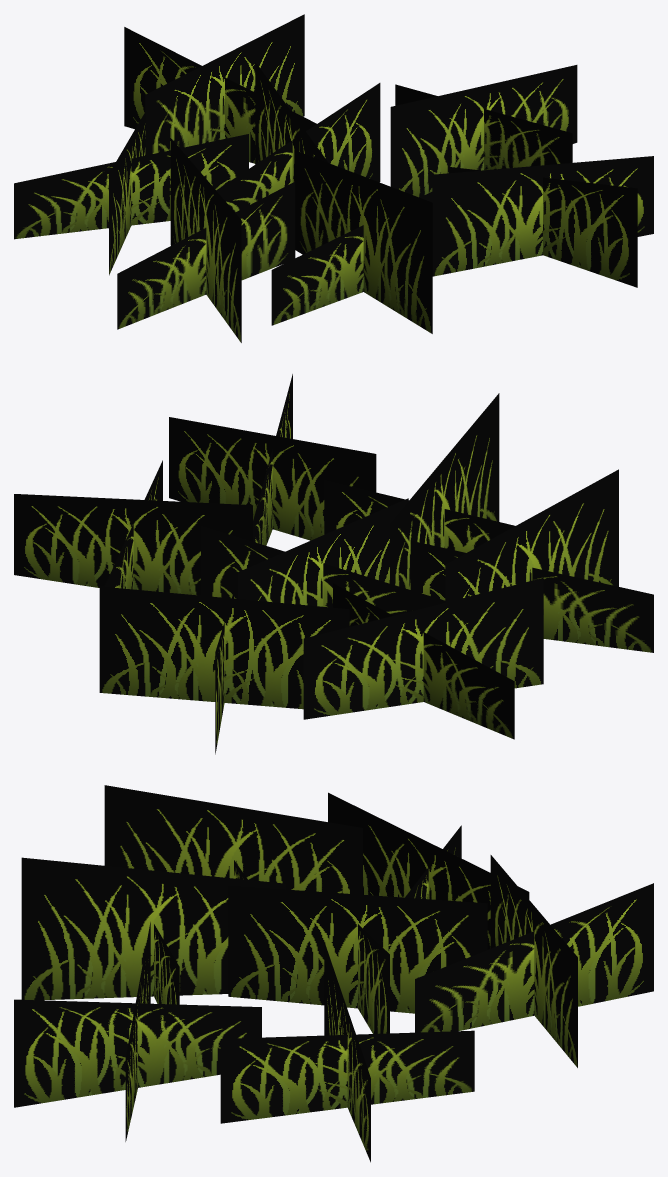
File: Grass2.glb
3 views of the same model, one above another, from view 1: azimuth 30°, elevation 25°; view 2: azimuth 150°, elevation 25°; view 3: azimuth 270°, elevation 25° (orthographic). The views are drawn at different scales.
Visible parts, largest first — view 1: Type_1_Grass_2_LOD0; view 2: Type_1_Grass_2_LOD0; view 3: Type_1_Grass_2_LOD0.
Part boxes in pixels (bbox=[...]): Type_1_Grass_2_LOD0: bbox=[14, 14, 653, 342]; Type_1_Grass_2_LOD0: bbox=[14, 374, 653, 754]; Type_1_Grass_2_LOD0: bbox=[14, 785, 653, 1162].
Size of the model in its own units: 2.37 by 0.5547 by 2.24.
1 material, 1 textured.
